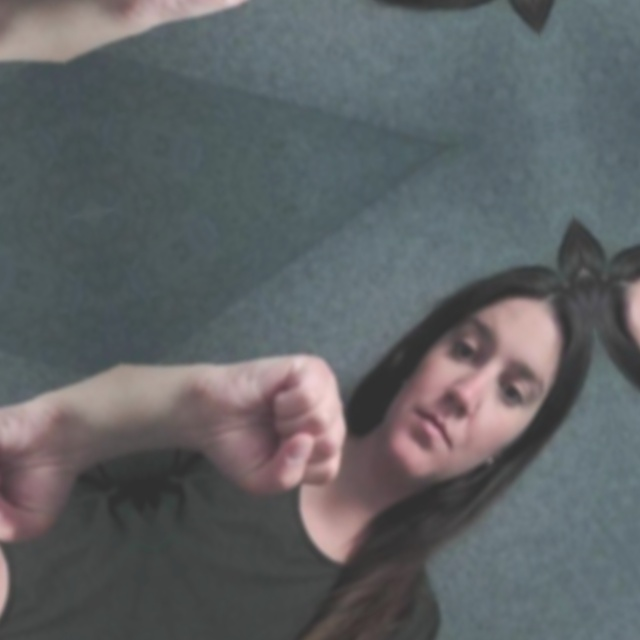Rock: (72, 0, 309, 69)
